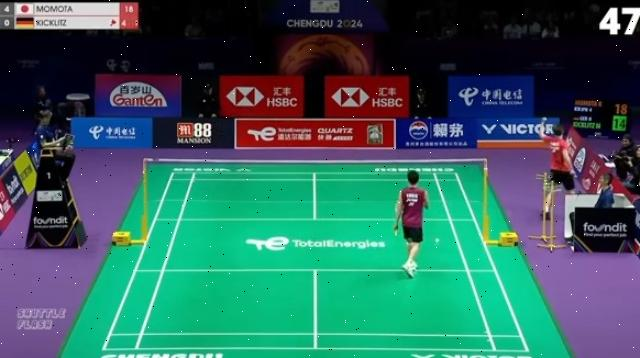Shuttlecock: (434, 238, 440, 242)
